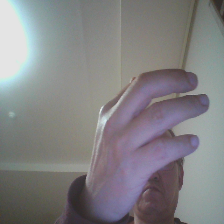hand: (97, 67, 210, 222)
